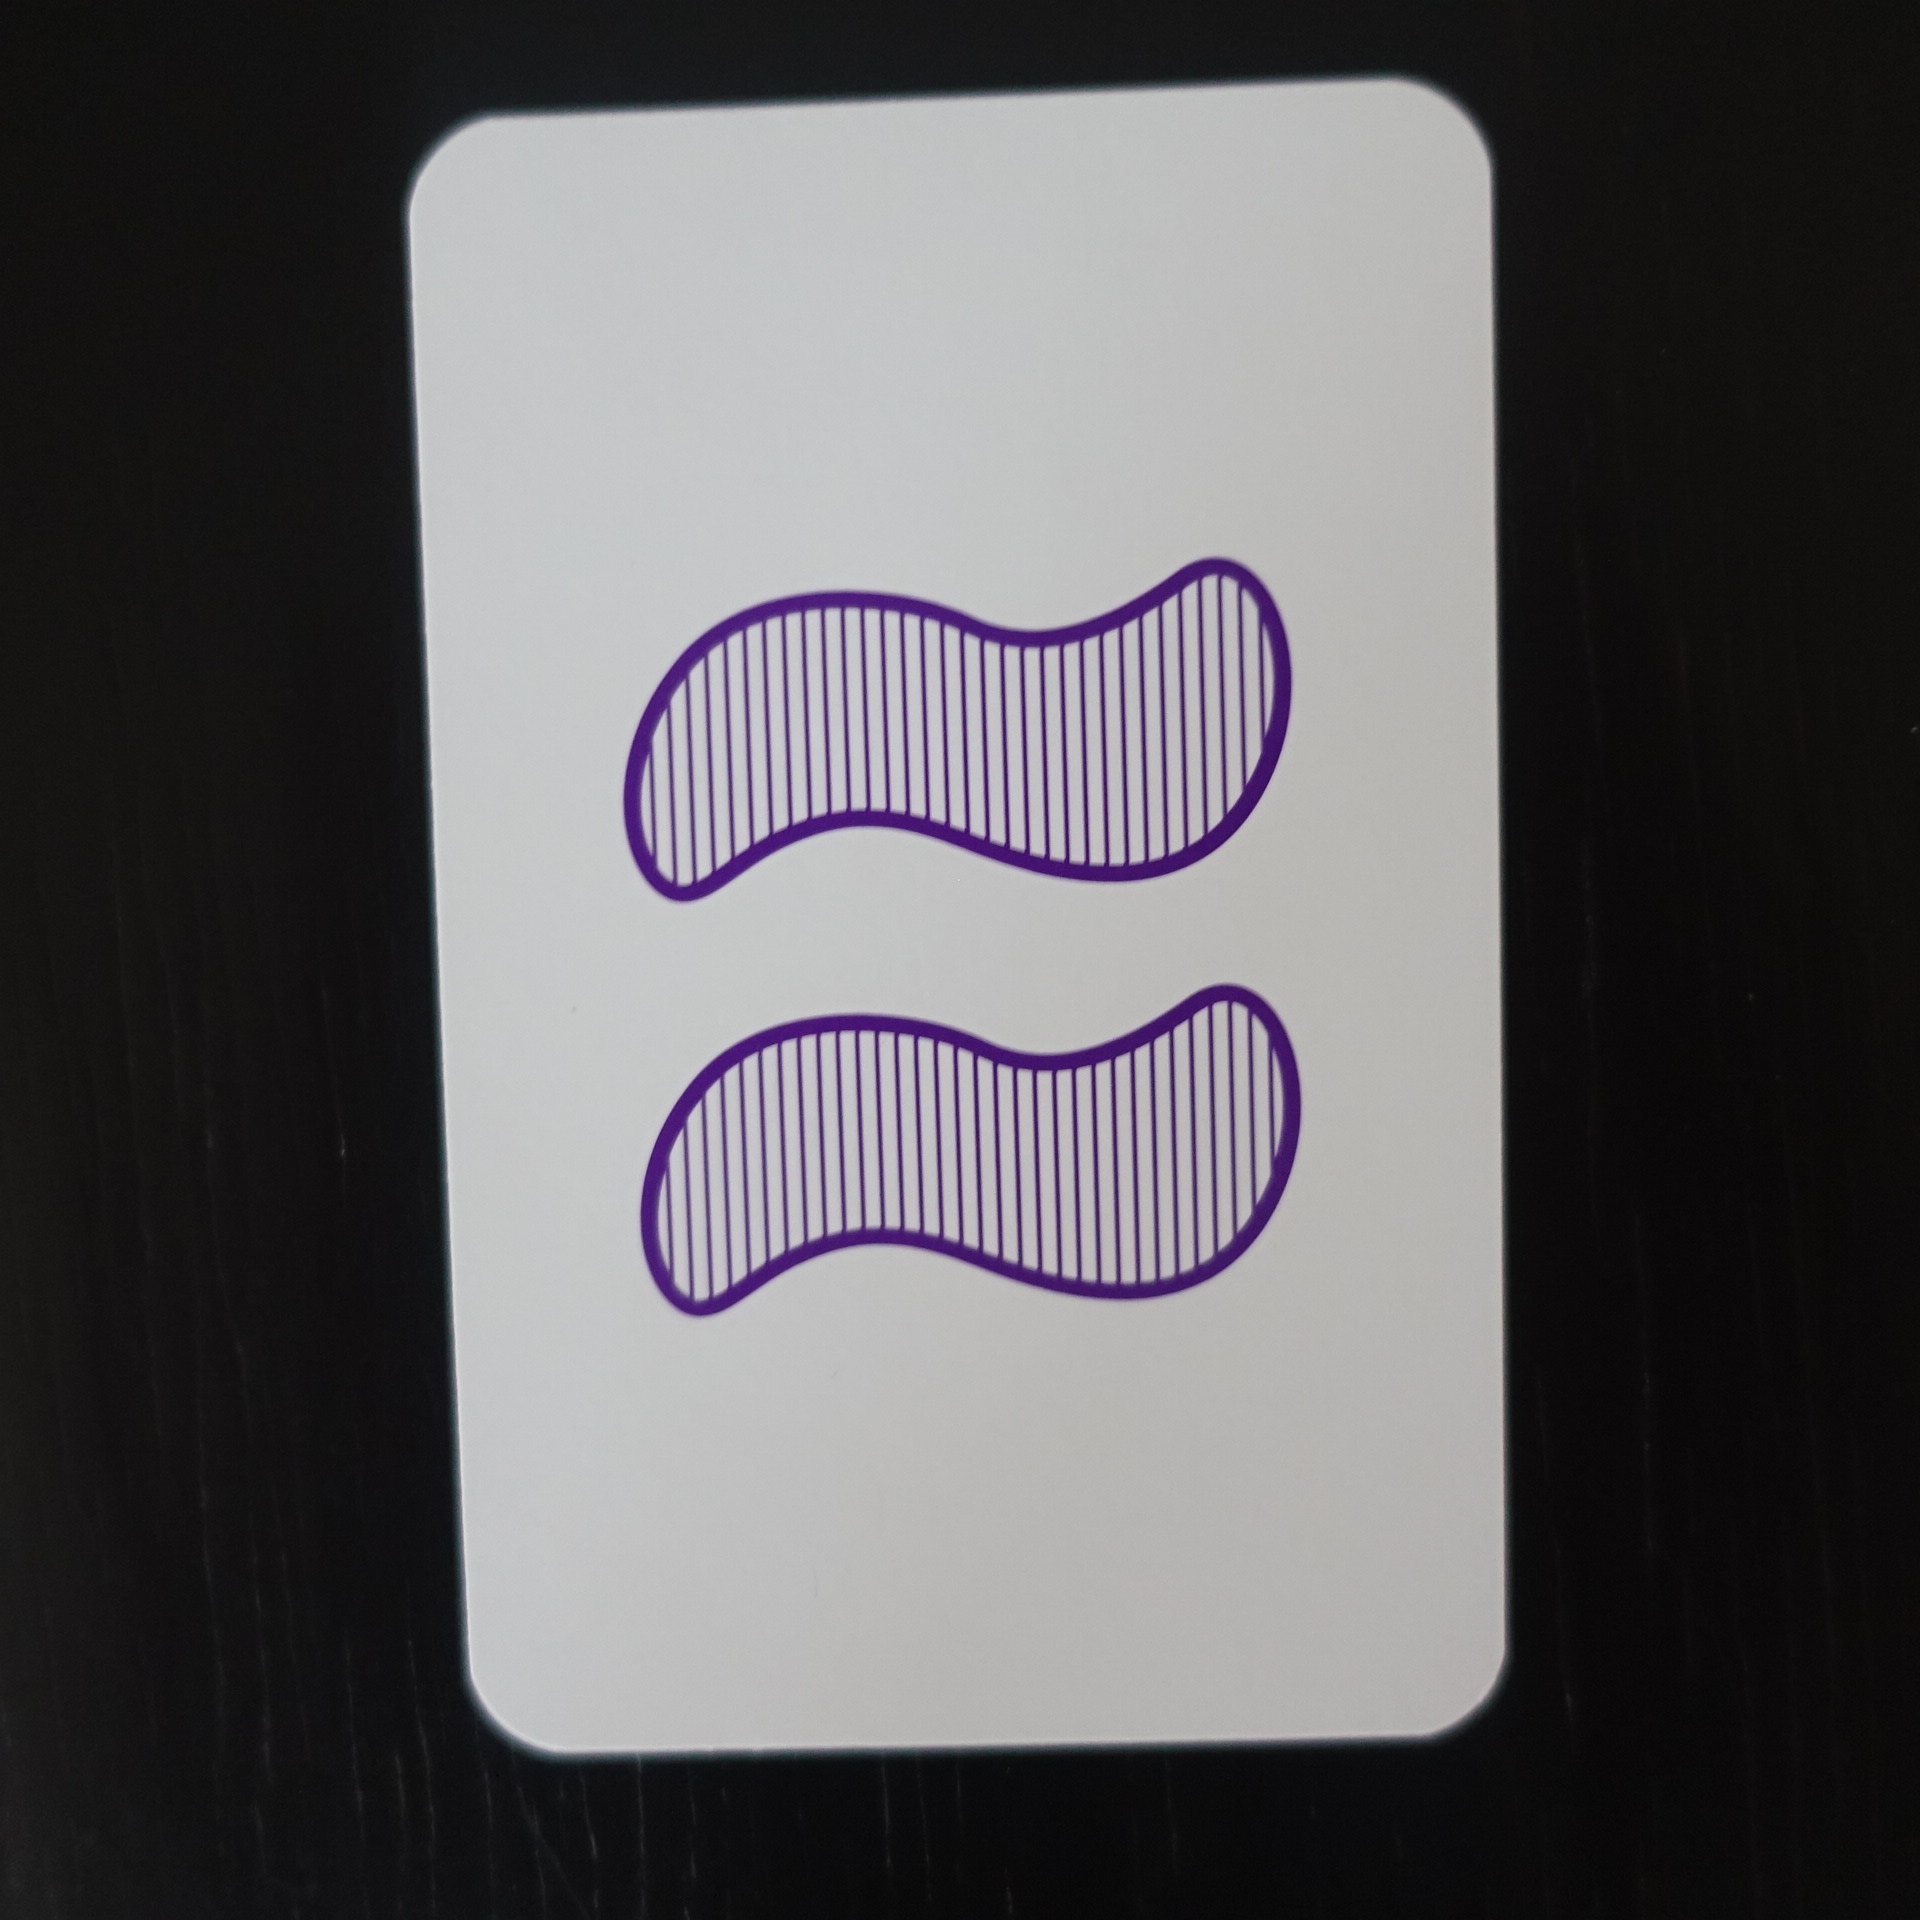c-2-h-s-p: (375, 55, 1544, 1783)
